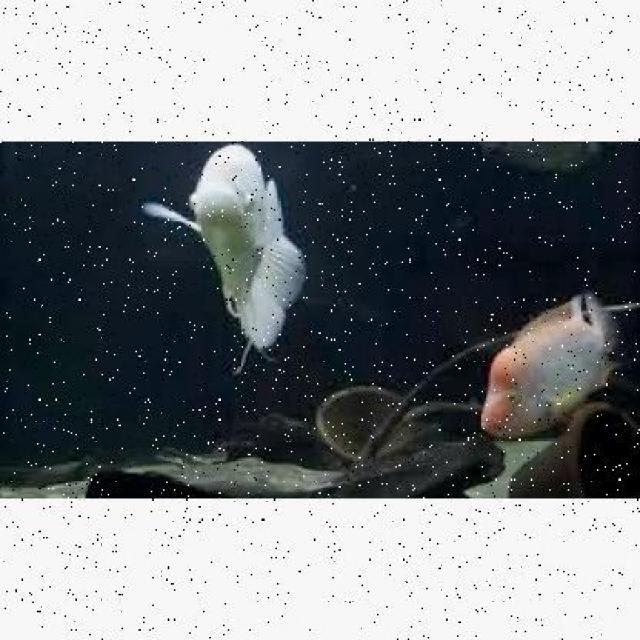gurame: (140, 140, 312, 358), (481, 292, 624, 437)
